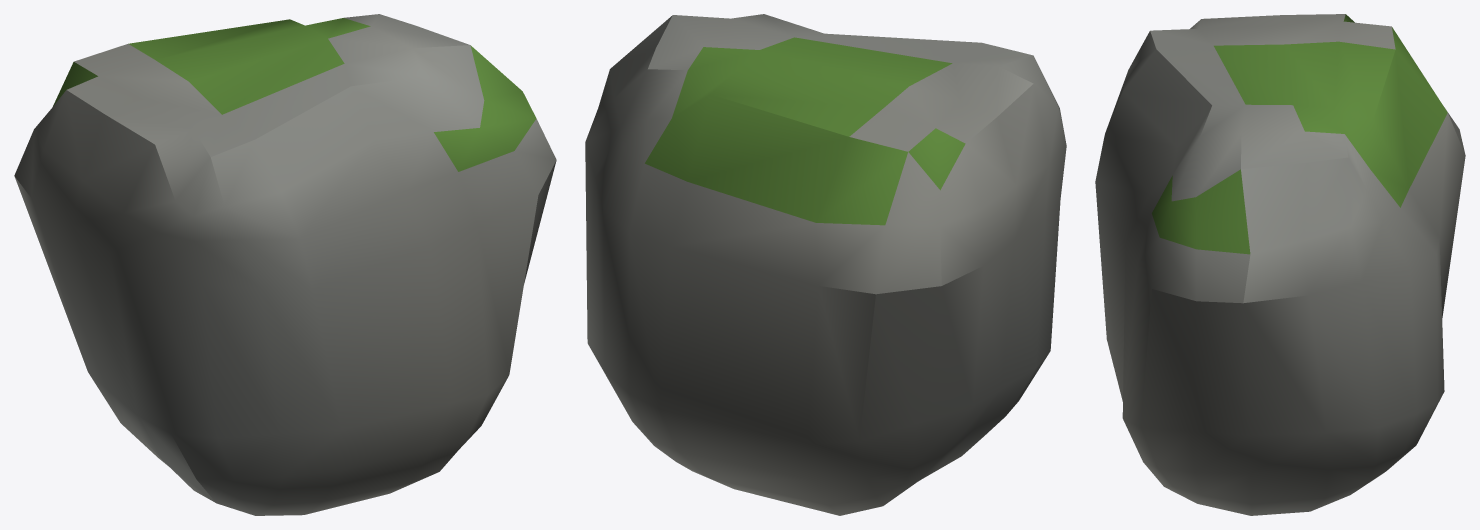
The model's file is stepping-stone-b.glb.
3 views of the same model, side by side, from view 1: azimuth 30°, elevation 25°; view 2: azimuth 150°, elevation 25°; view 3: azimuth 270°, elevation 25° (orthographic). The views are drawn at different scales.
Parts seen in each view (by area): view 1: stepping-stone-b River stone; view 2: stepping-stone-b River stone; view 3: stepping-stone-b River stone.
Part boxes in pixels (x1,y1,x2,y2): stepping-stone-b River stone: (14, 14, 556, 515); stepping-stone-b River stone: (585, 14, 1066, 515); stepping-stone-b River stone: (1095, 14, 1465, 515).
Bounding box in the file's own units: 1.45 × 1.33 × 1.13.
